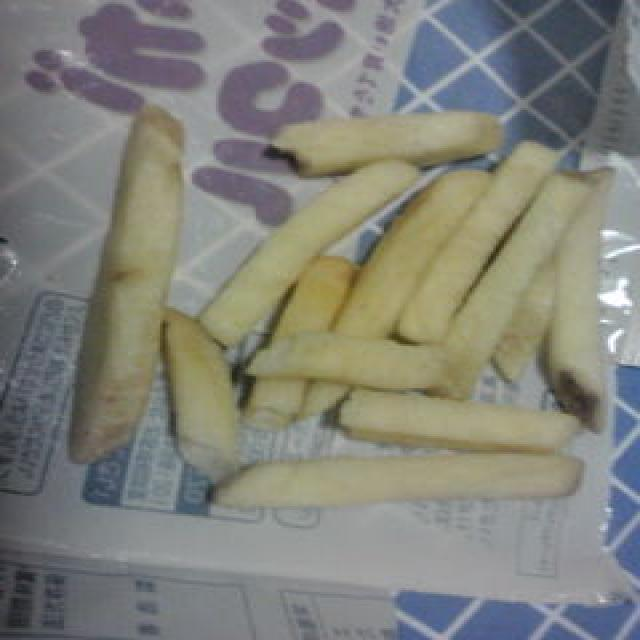French Fries: (79, 103, 621, 523)
